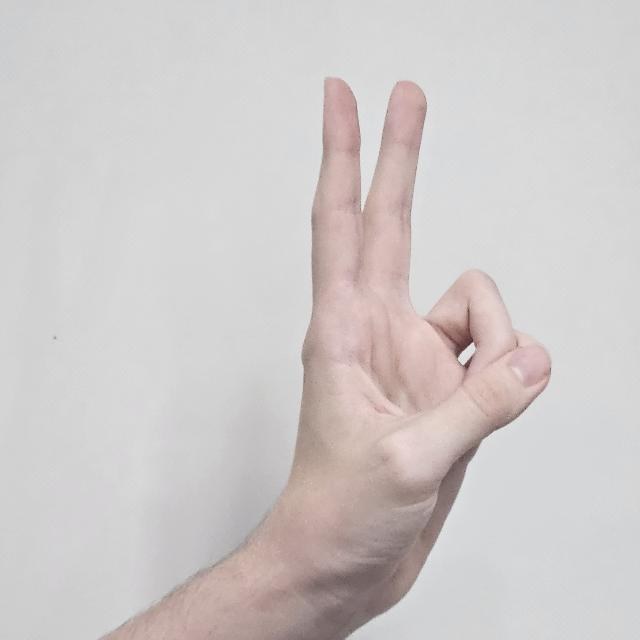Triangulo: (103, 78, 551, 640)
